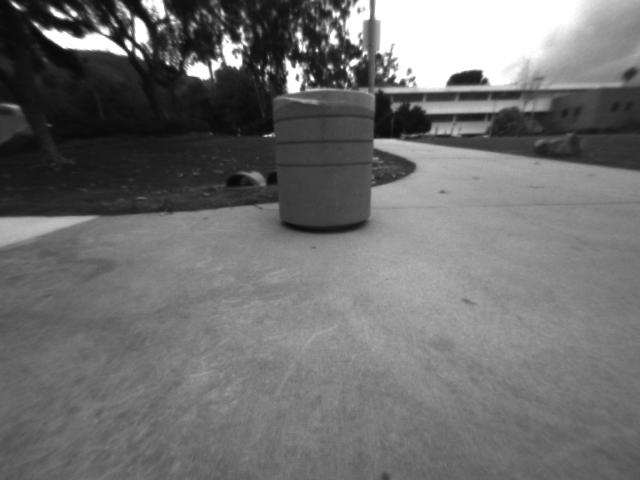trashcan: (266, 89, 386, 233)
